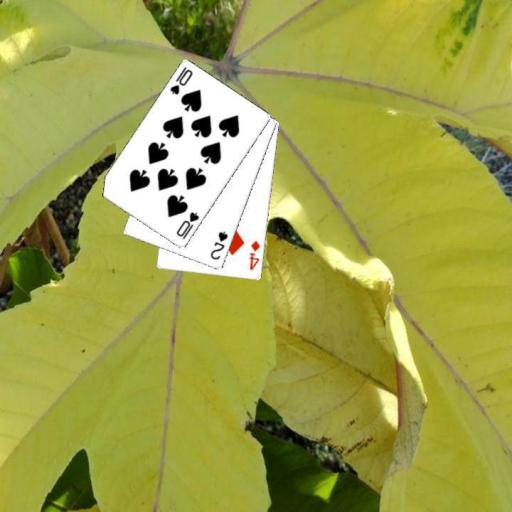card-corner: (167, 64, 194, 97), (173, 209, 200, 241), (208, 228, 230, 262), (246, 238, 262, 272)
